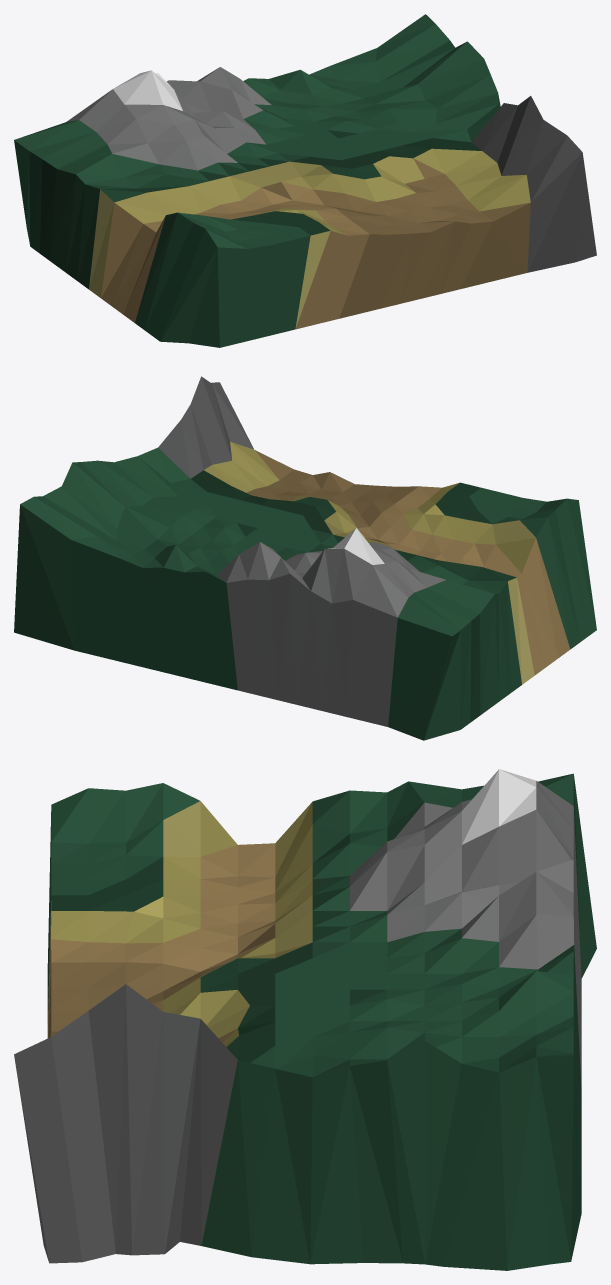
Rendered from terrain_base_final.fbx.
3 renders of one model, top to bottom at view 1: azimuth 30°, elevation 25°; view 2: azimuth 150°, elevation 25°; view 3: azimuth 270°, elevation 25°, orthographic. The views are drawn at different scales.
Visible parts, largest first — view 1: terrain:pPlane1; view 2: terrain:pPlane1; view 3: terrain:pPlane1.
Boxes of the visible parts, left/top/right/bottom form: terrain:pPlane1: left=14, top=14, right=596, bottom=347; terrain:pPlane1: left=14, top=376, right=596, bottom=740; terrain:pPlane1: left=14, top=769, right=596, bottom=1270.
Bounding box in the file's own units: 34.21 × 11.99 × 24.94.
